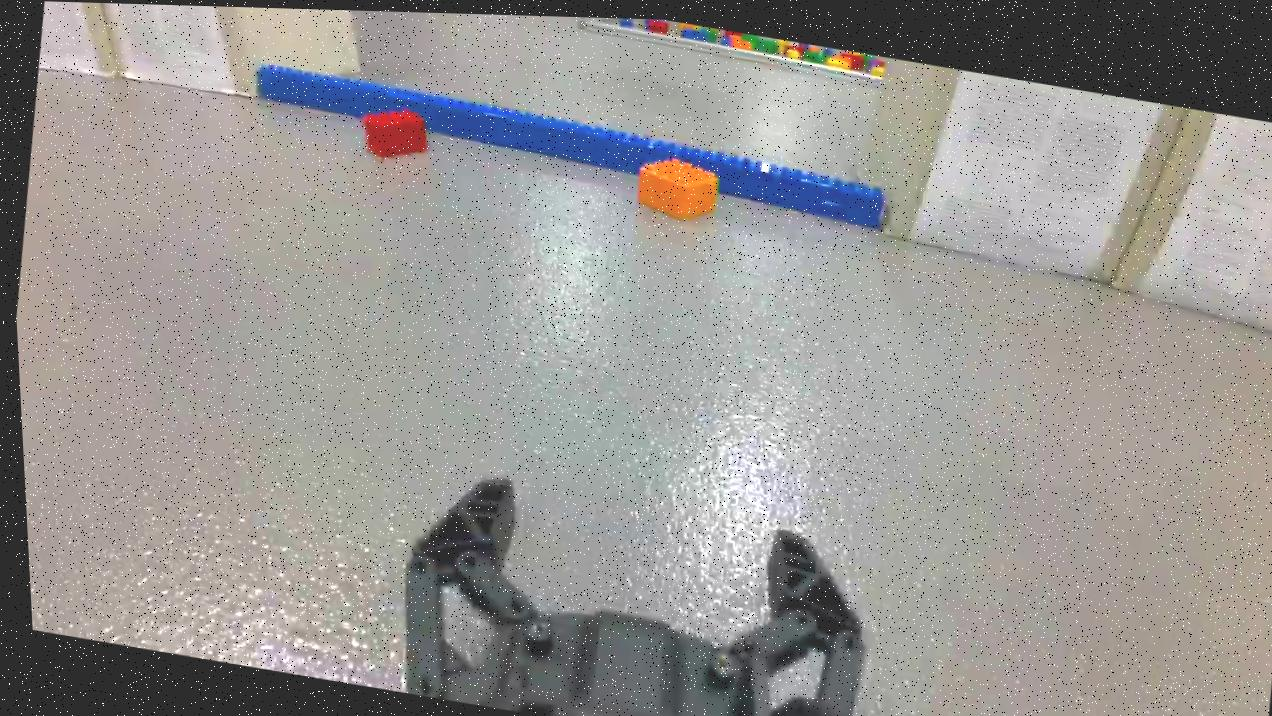2x4lego: (356, 99, 434, 162)
4x4lego: (630, 149, 720, 221)
